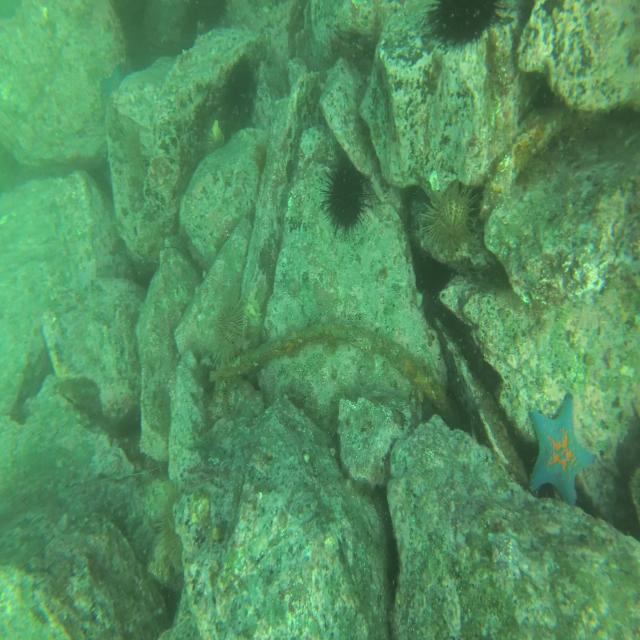echinus: (426, 185, 477, 257), (326, 161, 365, 232), (431, 1, 493, 40), (216, 300, 247, 366), (221, 54, 251, 107)
starfish: (529, 390, 594, 510), (99, 66, 124, 110)
